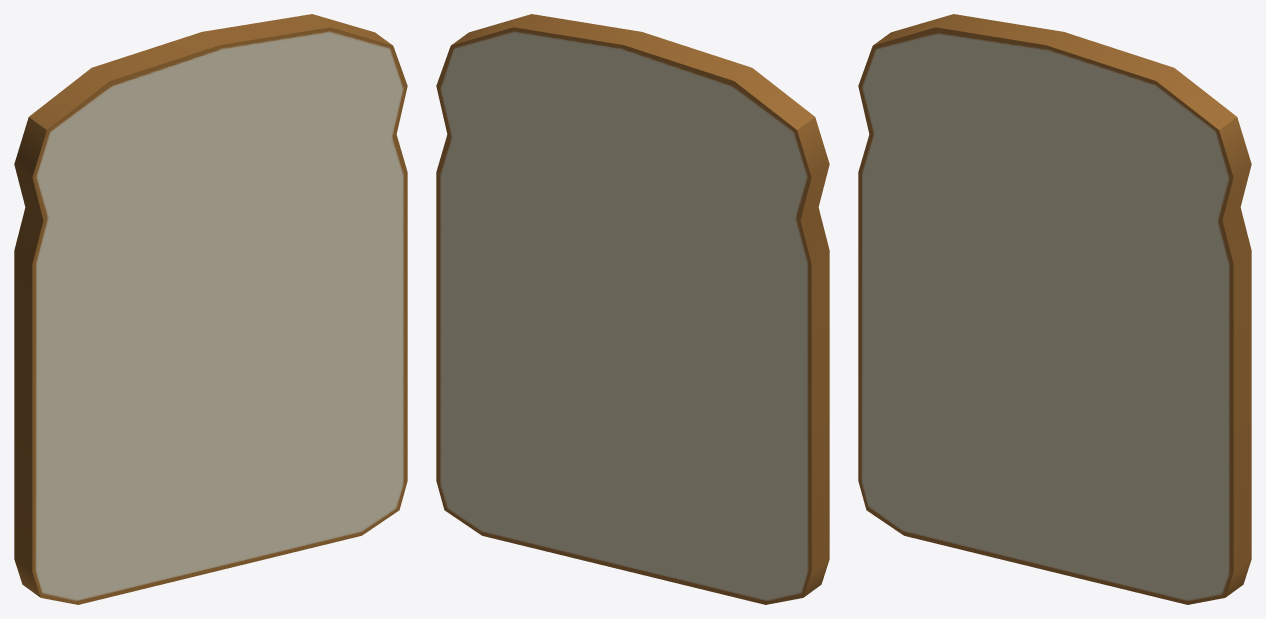
The model's file is Bread_Piece_4_Middle_MDL.fbx.
The picture shows the model from 3 angles, left to right: view 1: azimuth 30°, elevation 25°; view 2: azimuth 150°, elevation 25°; view 3: azimuth 330°, elevation 25°; orthographic projection.
Visible parts, largest first — view 1: bread_middle; view 2: bread_middle; view 3: bread_middle.
Part boxes in pixels (x1=…): bread_middle: x1=14, y1=14, x2=407, y2=604; bread_middle: x1=436, y1=14, x2=829, y2=604; bread_middle: x1=858, y1=14, x2=1251, y2=604.
Bounding box in the file's own units: 17.12 × 22.89 × 1.43.
